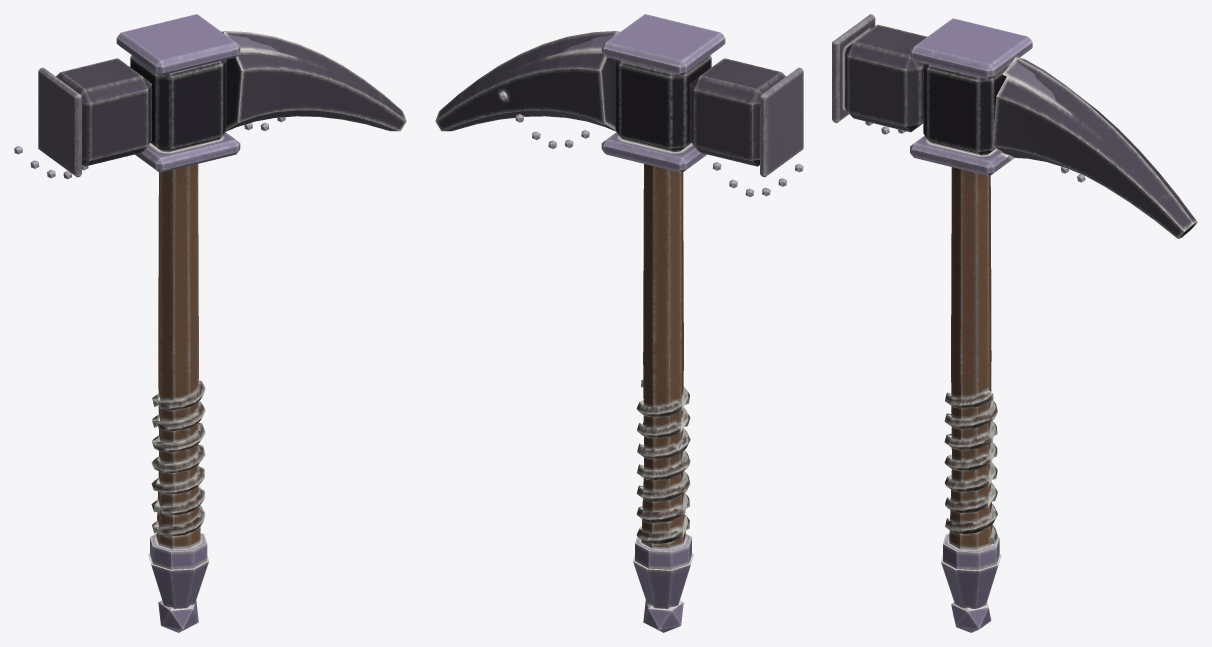
Rendered from AshcoalPickaxe.glb.
The picture shows the model from 3 angles, left to right: view 1: azimuth 30°, elevation 25°; view 2: azimuth 150°, elevation 25°; view 3: azimuth 330°, elevation 25°; orthographic projection.
Parts seen in each view (by area): view 1: Body__Tex; view 2: Body__Tex; view 3: Body__Tex.
Part boxes in pixels (bbox=[...]): Body__Tex: bbox=[14, 14, 406, 632]; Body__Tex: bbox=[435, 14, 803, 632]; Body__Tex: bbox=[832, 14, 1197, 632].
Bounding box in the file's own units: 2.67 × 4.04 × 0.54.
1 material, 1 textured.
